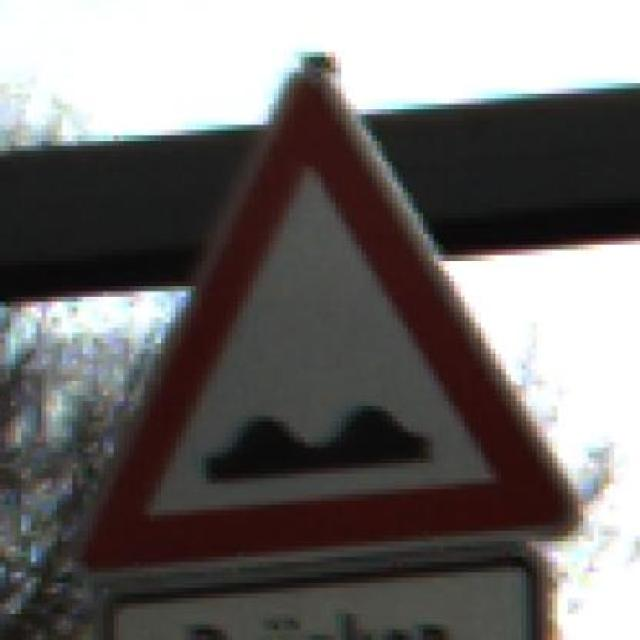Uneven Road: (57, 68, 583, 568)
